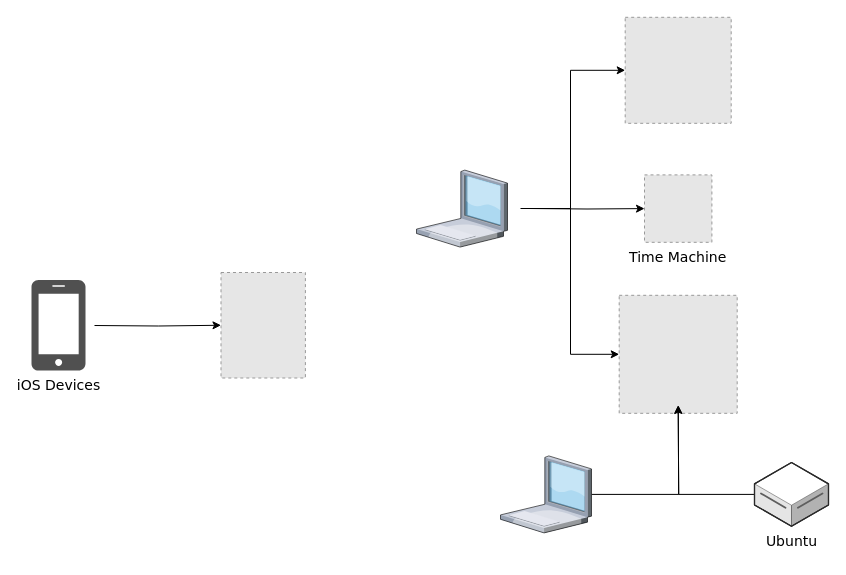
Some shapes in this 846 by 575 pixel diagram are drawn without their labels. Grey dashed boxes stand in for pictures. The shapes that lost their labels are listed below. From the top down, each one's centre as x and y in pixels, then its label:
point (461, 208): MacBook
point (545, 493): Windows
